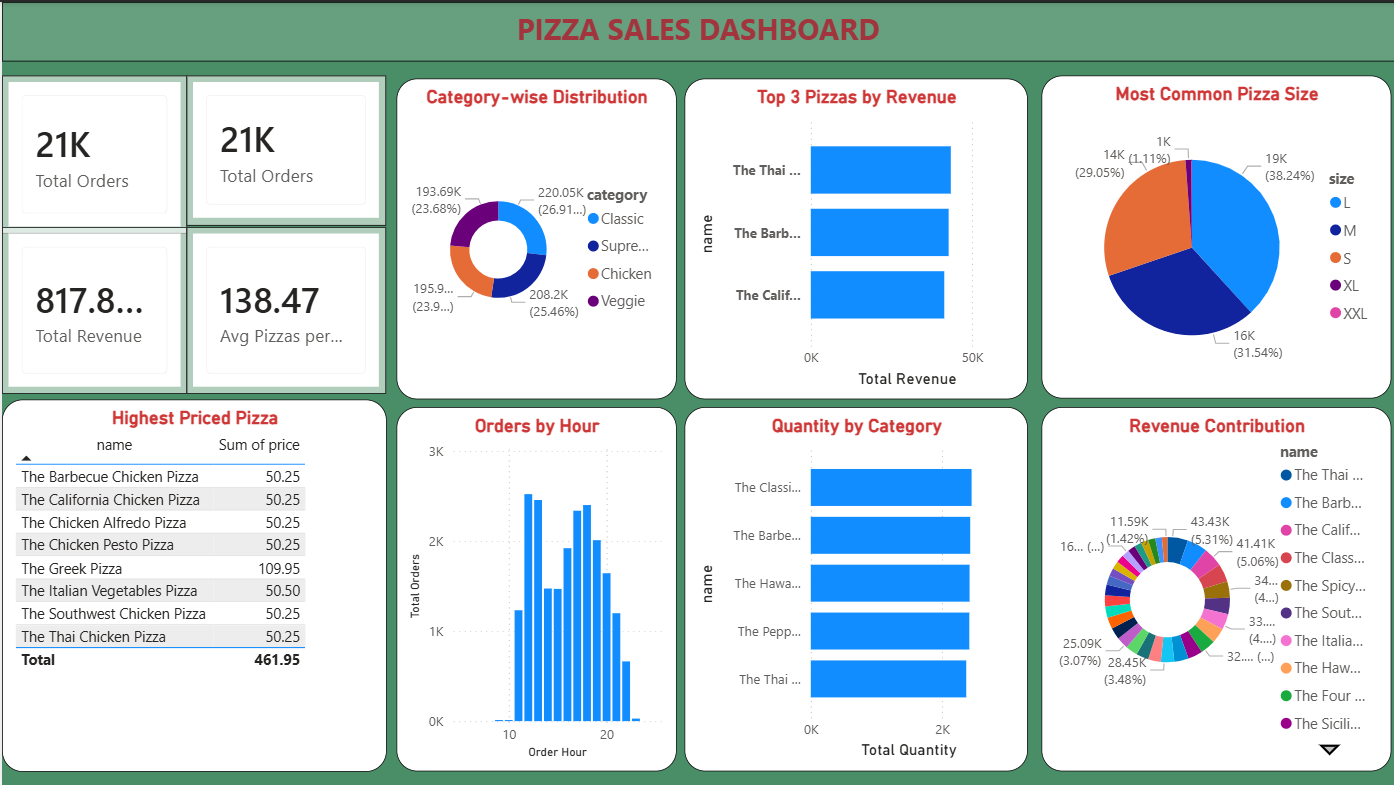

The page's visual inventory and layout, read from the dashboard file:
{"tool":"powerbi","page":{"name":"Pizza Sales","canvas":[1280,720],"ordinal":0},"visuals":[{"type":"textbox","box":[0,0,1279.4,54.8],"z":0},{"type":"cardVisual","fields":{"Data":["Table.Total Orders"]},"box":[0,68,170.1,145.5],"z":1},{"type":"cardVisual","fields":{"Data":["Table.Total Revenue"]},"box":[0,206,170.1,153.1],"z":2},{"type":"cardVisual","fields":{"Data":["Table.Total Orders"]},"box":[170.1,68,183.3,138],"z":3},{"type":"tableEx","title":"Highest Priced Pizza","fields":{"Values":["pizza_types.name","Sum(pizzas.price)"]},"box":[0,364.7,353.4,342],"z":4},{"type":"pieChart","title":"Most Common Pizza Size","fields":{"Category":["pizzas.size"],"Y":["Table.Total Quantity"]},"box":[954.3,68,321.3,296.7],"z":5},{"type":"clusteredBarChart","title":"Quantity by Category","fields":{"Category":["pizza_types.name"],"Y":["Table.Total Quantity"]},"box":[627.4,372.3,315.6,334.5],"z":6},{"type":"clusteredColumnChart","title":"Orders by Hour","fields":{"Y":["Table.Total Orders"],"Category":["orders.Order Hour"]},"box":[362.8,372.3,257,334.5],"z":7},{"type":"donutChart","title":"Category-wise Distribution","fields":{"Y":["Table.Total Revenue"],"Category":["pizza_types.category"]},"box":[362.8,69.9,257,294.8],"z":8},{"type":"cardVisual","fields":{"Data":["Table.Avg Pizzas per Day"]},"box":[170.1,206,183.3,153.1],"z":9},{"type":"clusteredBarChart","title":"Top 3 Pizzas by Revenue","fields":{"Category":["pizza_types.name"],"Y":["Table.Total Revenue"]},"box":[627.4,69.9,315.6,294.8],"z":10},{"type":"donutChart","title":"Revenue Contribution","fields":{"Category":["pizza_types.name"],"Y":["Table.Total Revenue"]},"box":[954.3,372.3,321.3,334.5],"z":11}]}

Visuals, with their boxes in screenshot pixels (x1, y1, x2, y2), scaled from the page's 1280x720 canvas onto the 1394x785 screenshot:
textbox: bbox=[0, 0, 1393, 60]
cardVisual - Table.Total Orders: bbox=[0, 74, 185, 233]
cardVisual - Table.Total Revenue: bbox=[0, 225, 185, 392]
cardVisual - Table.Total Orders: bbox=[185, 74, 385, 225]
"Highest Priced Pizza" tableEx: bbox=[0, 398, 385, 770]
"Most Common Pizza Size" pieChart: bbox=[1039, 74, 1389, 398]
"Quantity by Category" clusteredBarChart: bbox=[683, 406, 1027, 771]
"Orders by Hour" clusteredColumnChart: bbox=[395, 406, 675, 771]
"Category-wise Distribution" donutChart: bbox=[395, 76, 675, 398]
cardVisual - Table.Avg Pizzas per Day: bbox=[185, 225, 385, 392]
"Top 3 Pizzas by Revenue" clusteredBarChart: bbox=[683, 76, 1027, 398]
"Revenue Contribution" donutChart: bbox=[1039, 406, 1389, 771]
